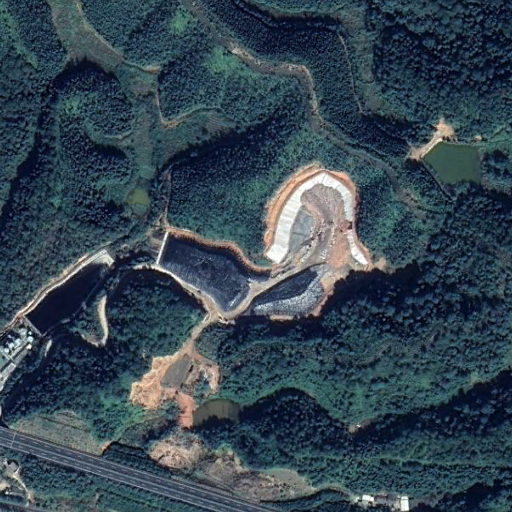lf: (153, 171, 366, 318)
